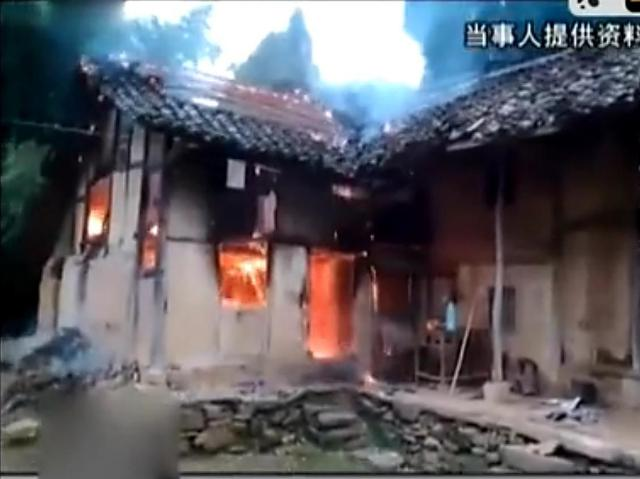fire: (309, 252, 341, 358), (219, 247, 265, 306), (88, 184, 104, 235)
